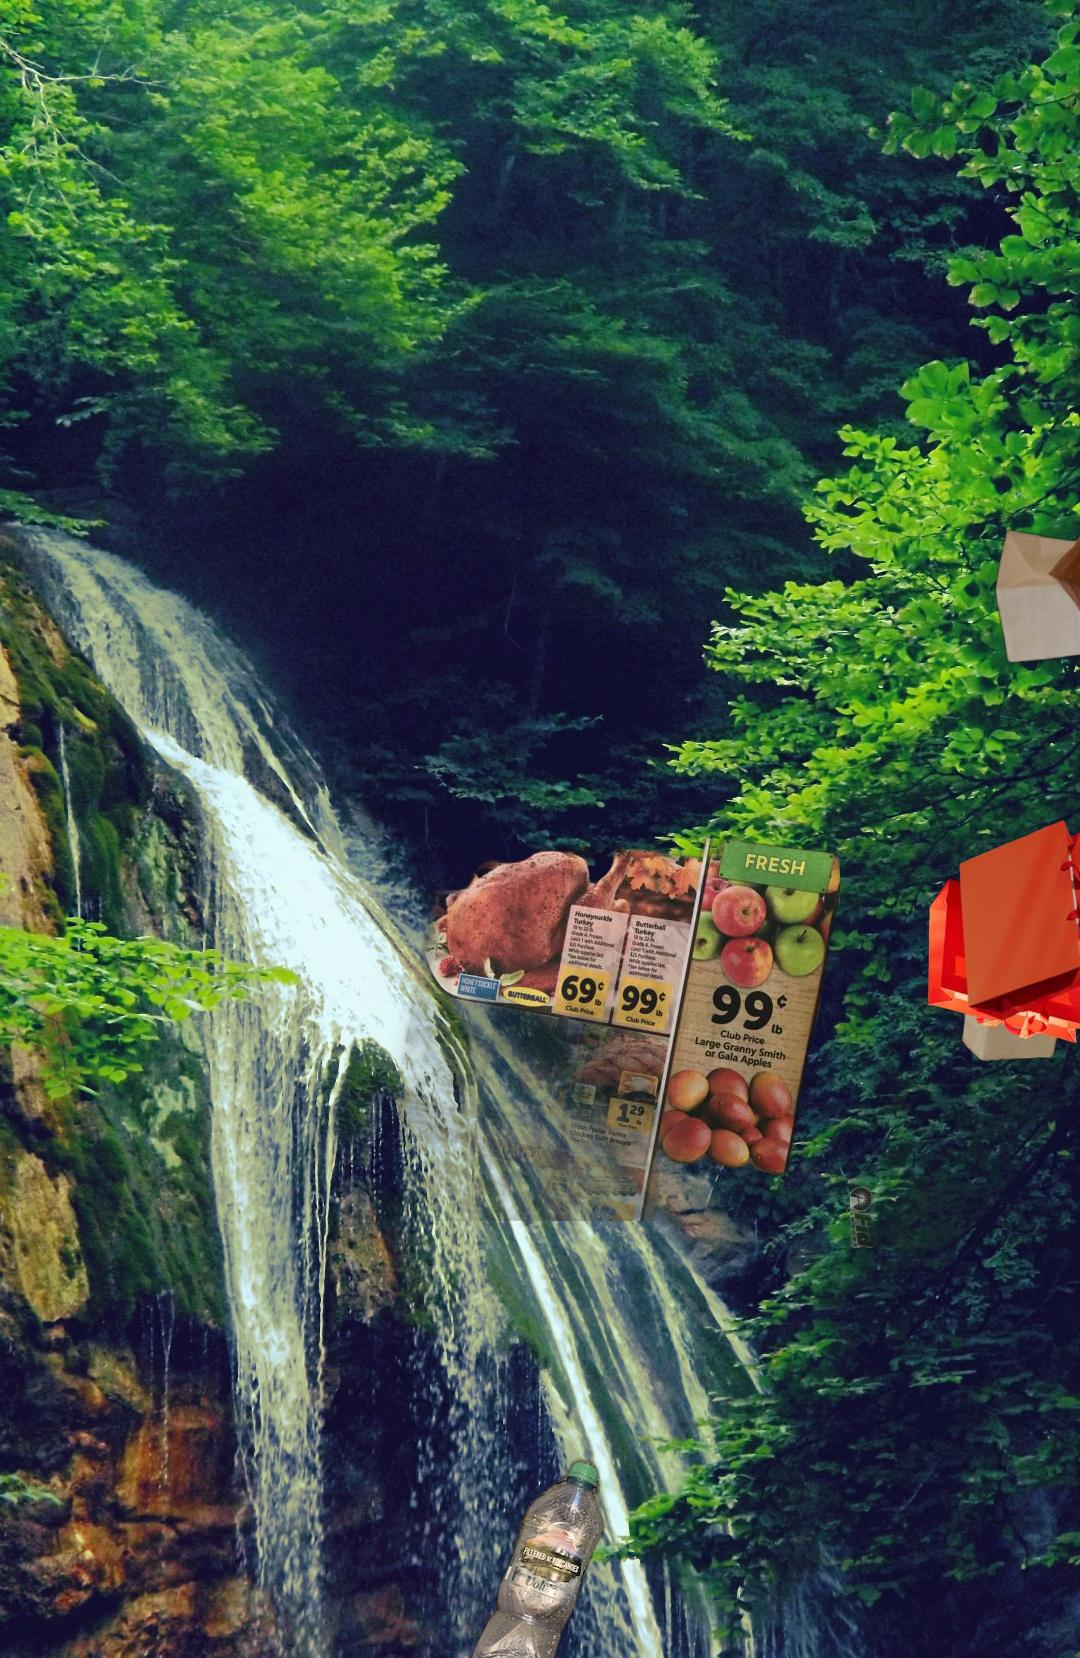paper: (329, 837, 840, 1221), (850, 980, 1080, 1248), (1050, 720, 1080, 1105)
paper-bag: (924, 817, 1080, 1063), (993, 508, 1080, 680)
plastic-bottles: (449, 1454, 609, 1658)
